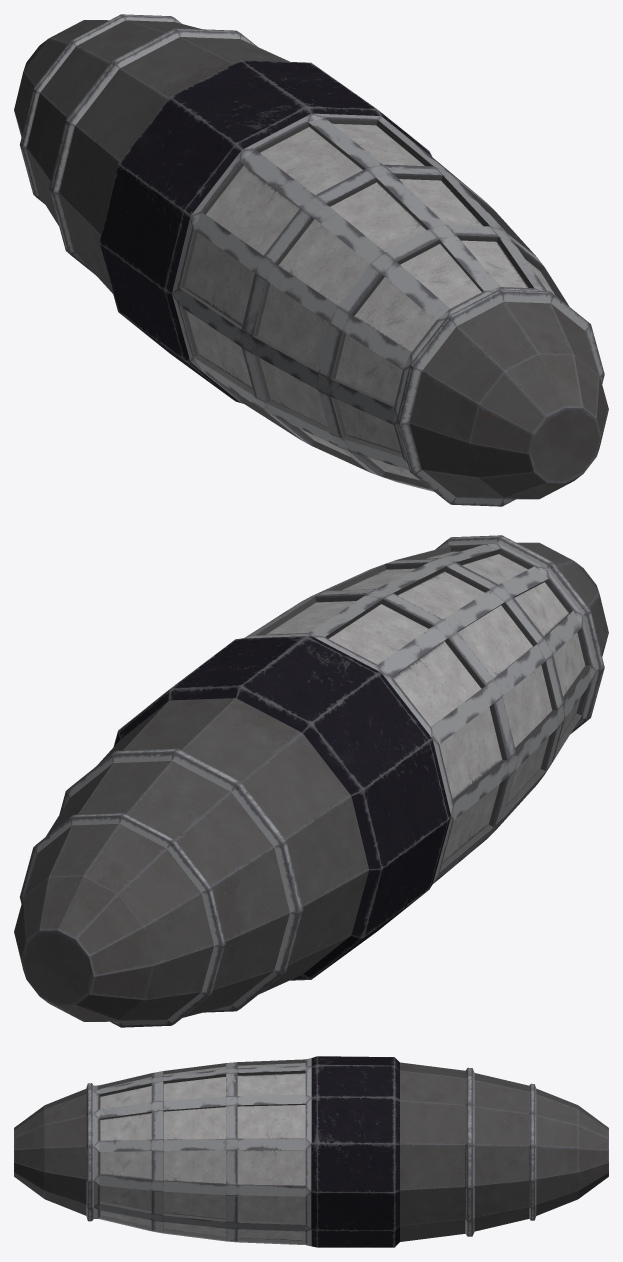
The model's file is balloon_m_1.fbx.
3 views of the same model, one above another, from view 1: azimuth 30°, elevation 25°; view 2: azimuth 150°, elevation 25°; view 3: azimuth 270°, elevation 25° (orthographic). The views are drawn at different scales.
Parts seen in each view (by area): view 1: balloon_m_1; view 2: balloon_m_1; view 3: balloon_m_1.
Boxes of the visible parts, x1,y1,x2,y2 form: balloon_m_1: (14, 14, 608, 506); balloon_m_1: (14, 535, 608, 1027); balloon_m_1: (14, 1056, 608, 1247).
Bounding box in the file's own units: 21.17 × 21.19 × 65.56.
